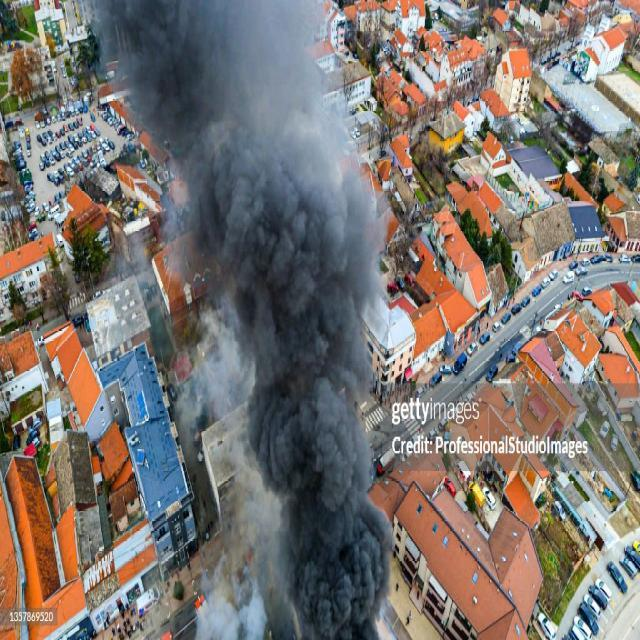Smoke: (174, 1, 386, 626)
